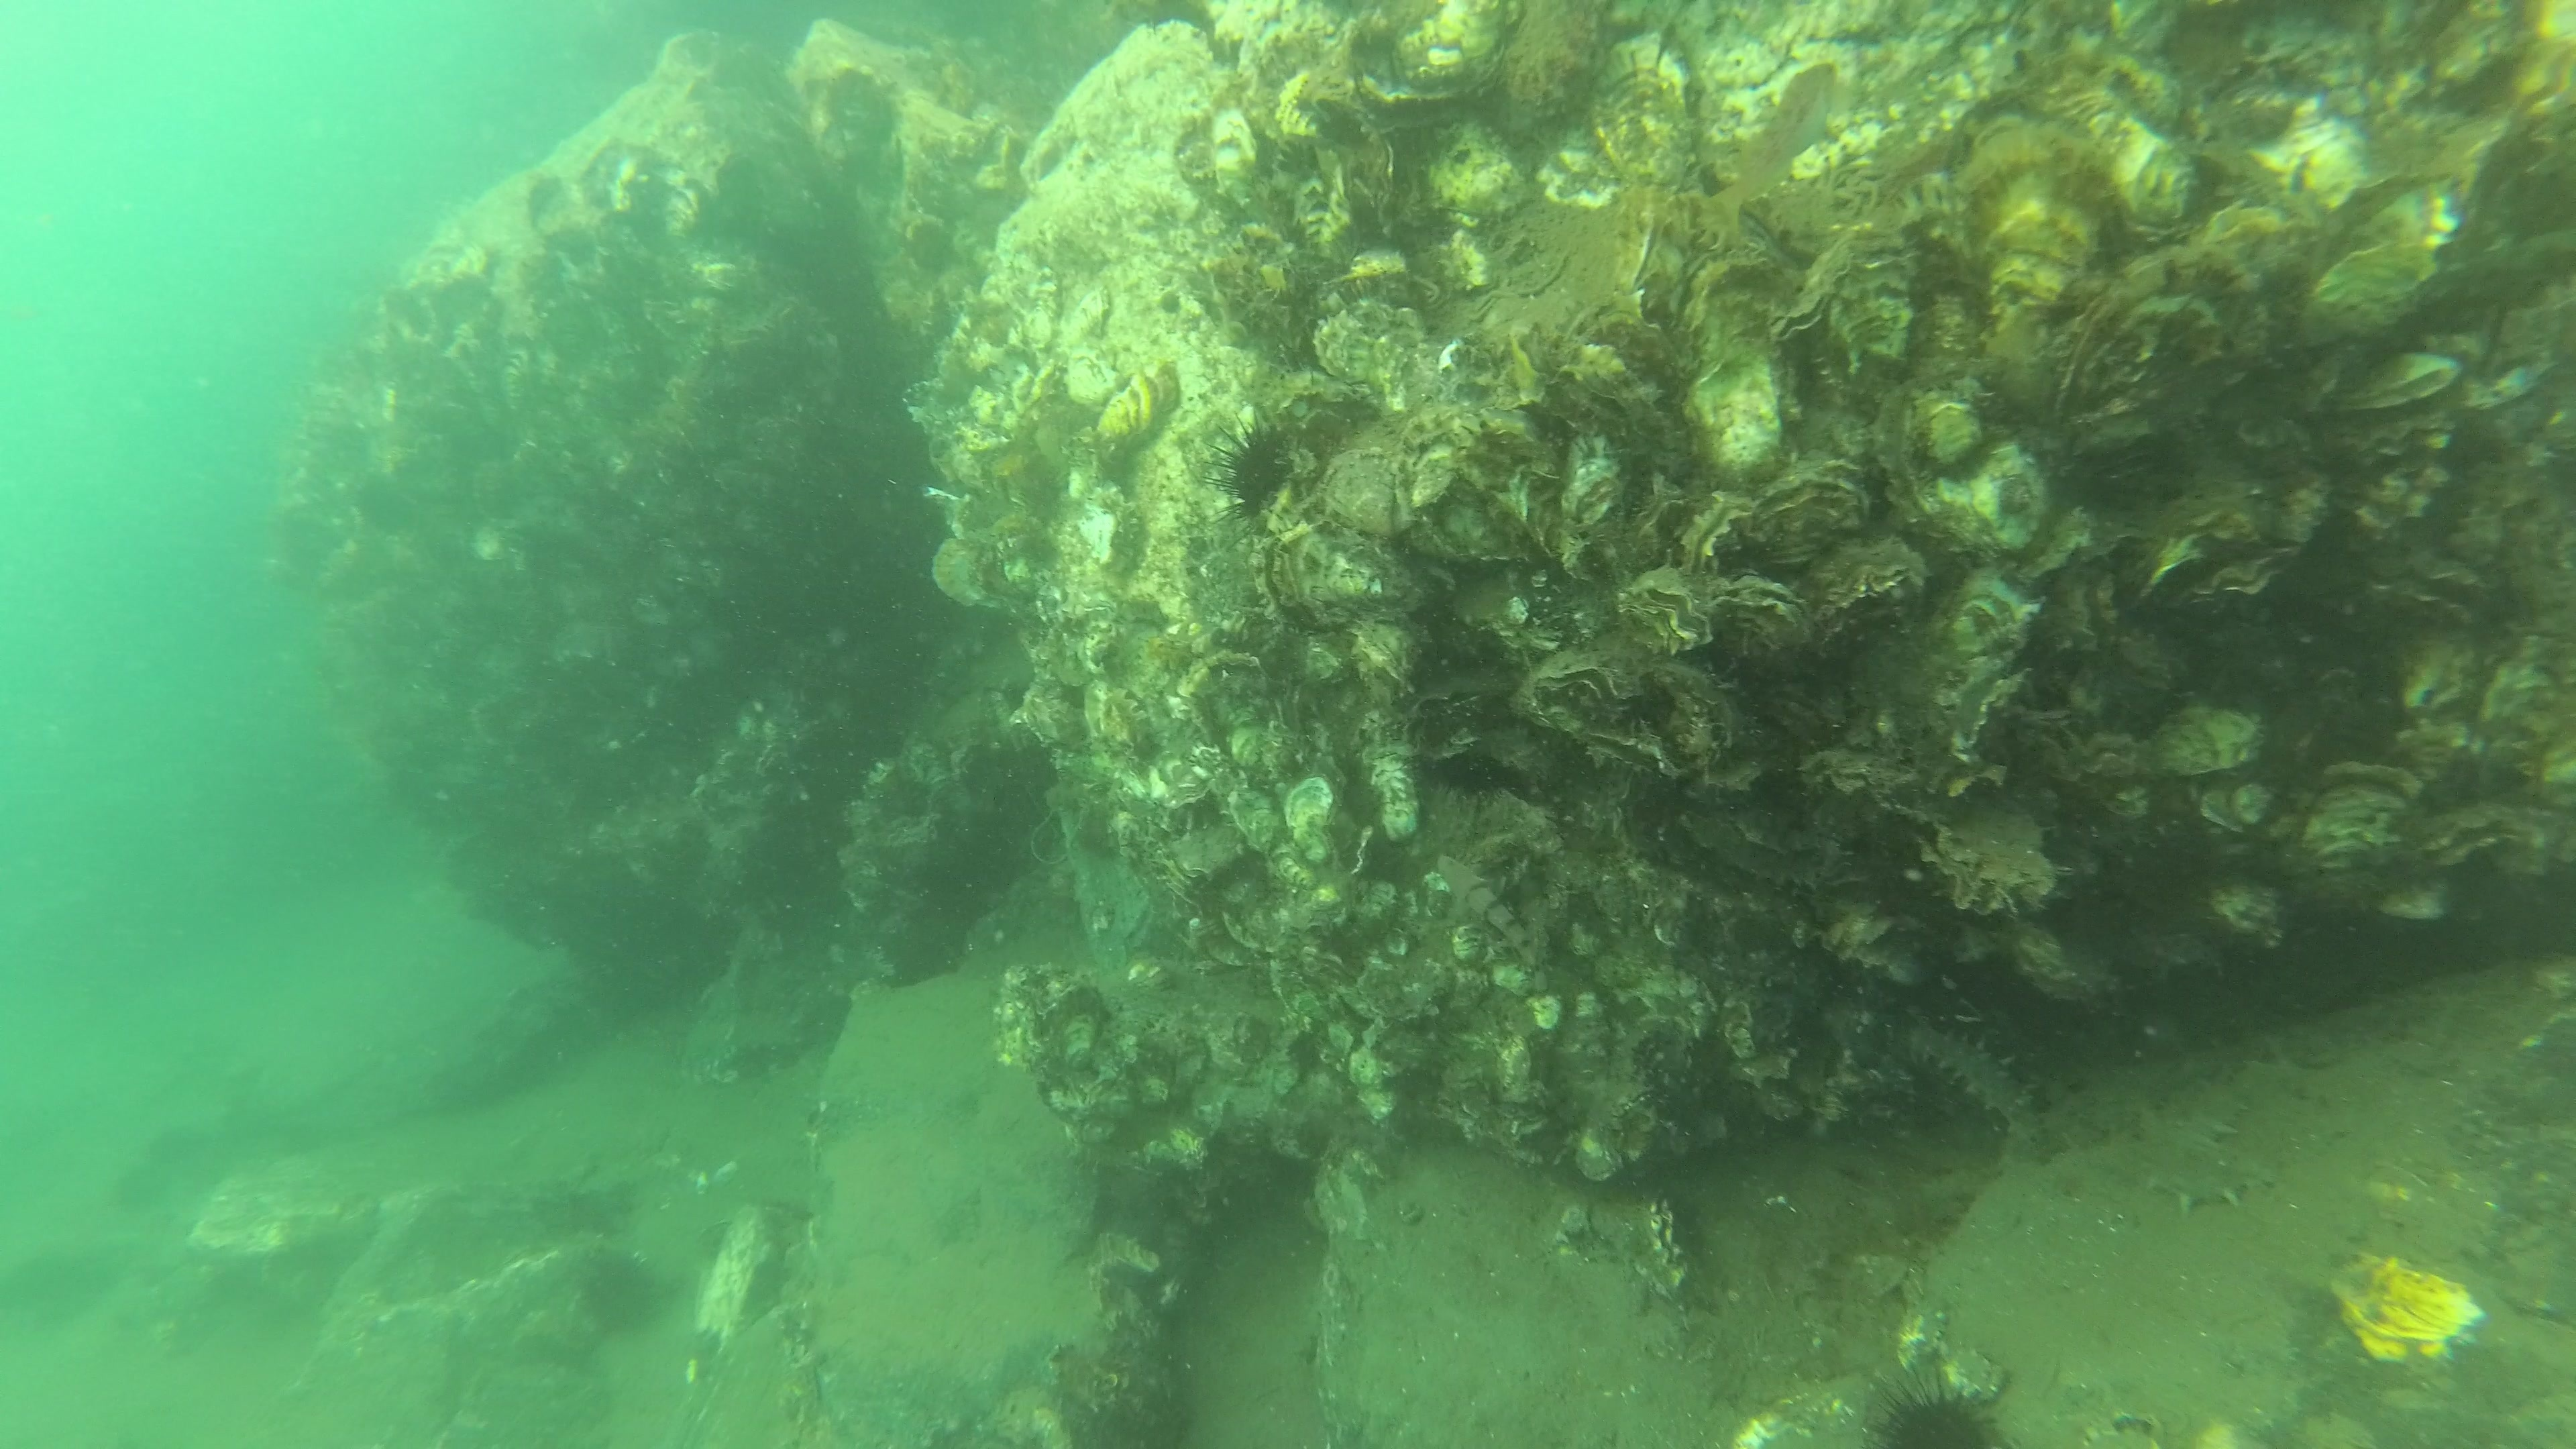echinus: (1845, 1362, 2006, 1449), (1196, 410, 1304, 529)
holothurian: (1897, 1010, 2049, 1145), (2144, 1060, 2272, 1208)
